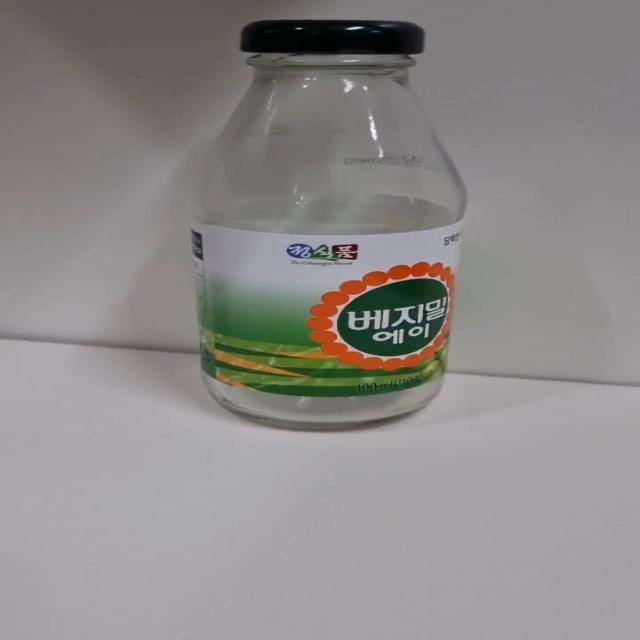Glass: (187, 20, 469, 432)
